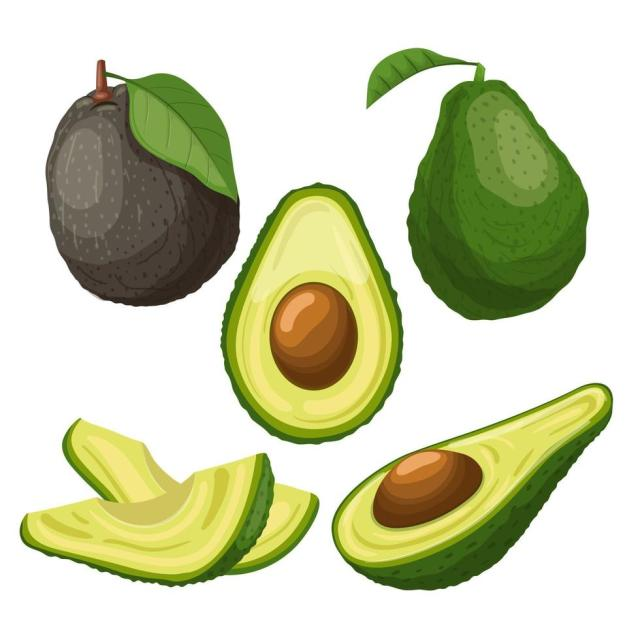aguacate: (12, 411, 322, 601), (221, 178, 409, 448)
